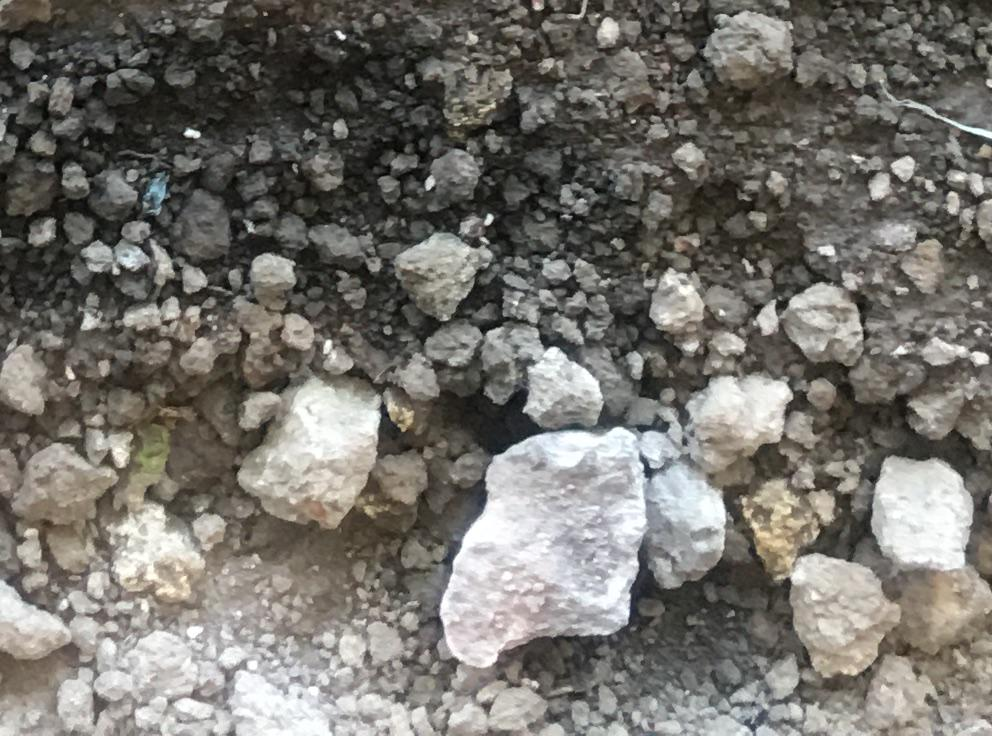block: (437, 429, 648, 668), (234, 374, 387, 530), (783, 553, 902, 682), (865, 454, 973, 576)
